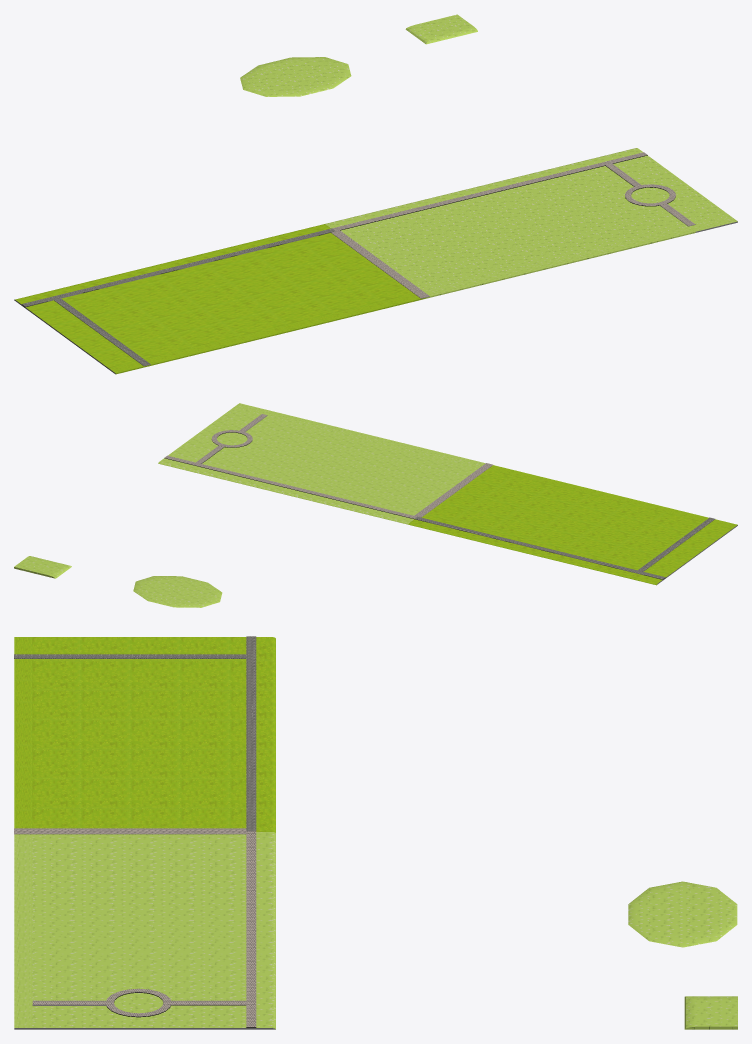
Rendered from PastoyPiso.obj.
The picture shows the model from 3 angles, top to bottom: view 1: azimuth 30°, elevation 25°; view 2: azimuth 150°, elevation 25°; view 3: azimuth 270°, elevation 25°; orthographic projection. The views are drawn at different scales.
Visible parts, largest first — view 1: PisoyPasto:pCube7, PisoyPasto:pCube8, PisoyPasto:pasted__pCube8group53; view 2: PisoyPasto:pCube7, PisoyPasto:pCube8, PisoyPasto:pasted__pCube8group53; view 3: PisoyPasto:pCube7, PisoyPasto:pCube8, PisoyPasto:pasted__pCube8group53.
Part boxes in pixels (x1=…): PisoyPasto:pCube7: x1=14, y1=14, x2=737, y2=374; PisoyPasto:pCube8: x1=331, y1=230, x2=429, y2=298; PisoyPasto:pasted__pCube8group53: x1=54, y1=298, x2=150, y2=366; PisoyPasto:pCube7: x1=14, y1=403, x2=737, y2=607; PisoyPasto:pCube8: x1=414, y1=463, x2=492, y2=517; PisoyPasto:pasted__pCube8group53: x1=638, y1=517, x2=714, y2=571; PisoyPasto:pCube7: x1=14, y1=636, x2=737, y2=1029; PisoyPasto:pCube8: x1=14, y1=828, x2=246, y2=834; PisoyPasto:pasted__pCube8group53: x1=14, y1=654, x2=246, y2=658.
Bounding box in the file's own units: 303 × 1.11 × 237.
